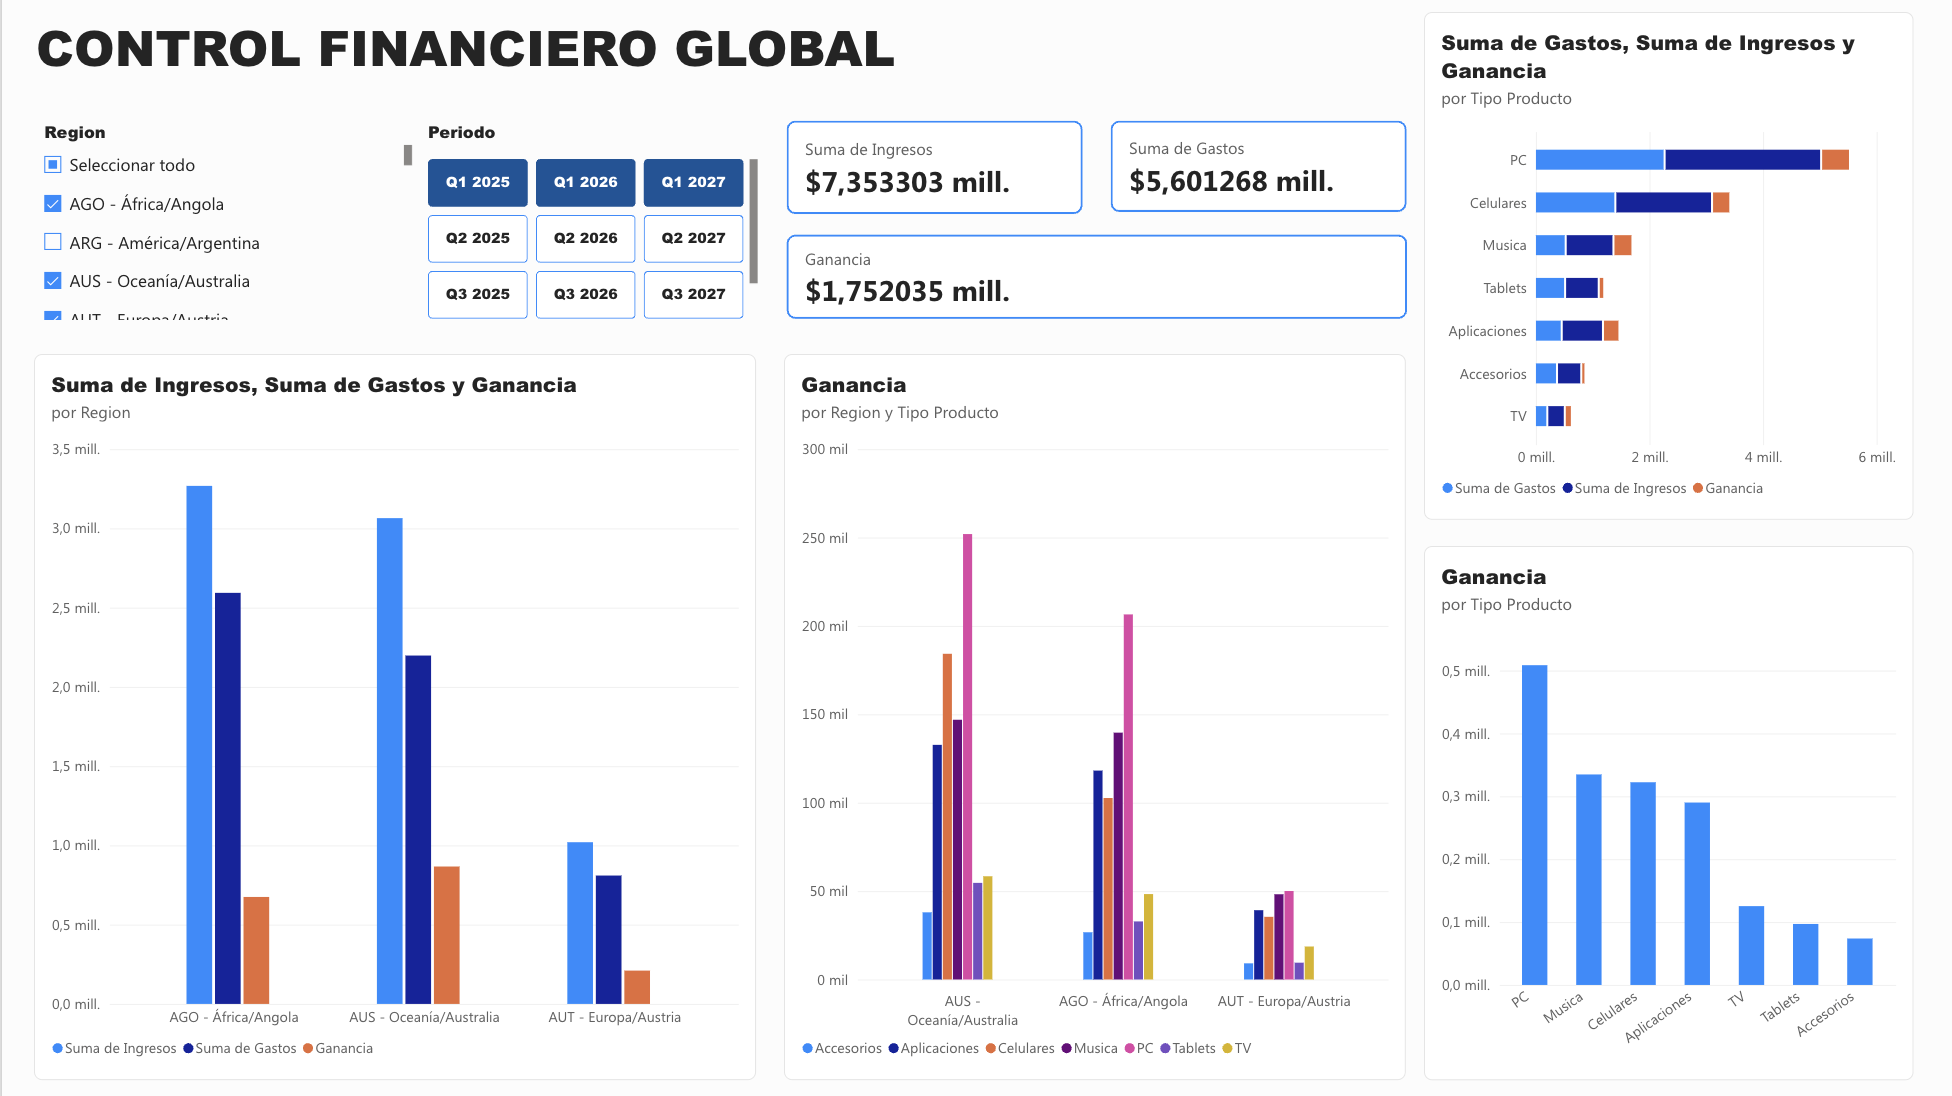

This screenshot's page, from the dashboard's own definition file:
{"tool":"powerbi","page":{"name":"Página 1","canvas":[1920,1080],"ordinal":0},"visuals":[{"type":"cardVisual","fields":{"Data":["Sum(Tabla.Ingresos)"]},"box":[771.3,118.7,292.1,93.5],"z":0},{"type":"cardVisual","fields":{"Data":["Sum(Tabla.Gastos)"]},"box":[1089.6,118.7,292.1,91.9],"z":1000},{"type":"barChart","fields":{"Category":["Tabla.Tipo Producto"],"Y":["Sum(Tabla.Gastos)","Sum(Tabla.Ingresos)","Tabla.Ganancia"]},"box":[1398,11.5,480.8,498.8],"z":2000},{"type":"clusteredColumnChart","fields":{"Category":["Tabla.Region"],"Y":["Sum(Tabla.Ingresos)","Sum(Tabla.Gastos)","Tabla.Ganancia"]},"box":[31.4,347.8,709.4,713.4],"z":3000},{"type":"advancedSlicerVisual","fields":{"Values":["Tabla.Periodo"]},"box":[417.8,117.7,324.3,196.5],"z":4000},{"type":"clusteredColumnChart","fields":{"Category":["Tabla.Tipo Producto"],"Y":["Tabla.Ganancia"]},"box":[1398,536.6,480.8,525.1],"z":5000},{"type":"cardVisual","fields":{"Data":["Tabla.Ganancia"]},"box":[771.3,230.7,611.2,84.5],"z":6000},{"type":"clusteredColumnChart","fields":{"Category":["Tabla.Region"],"Series":["Tabla.Tipo Producto"],"Y":["Tabla.Ganancia"]},"box":[768.4,347.8,611.2,713.4],"z":7000},{"type":"slicer","fields":{"Values":["Tabla.Region"]},"box":[32.7,117.7,369.5,196.5],"z":7001},{"type":"textbox","box":[33.4,11.8,880.4,72.7],"z":7002}]}

Visuals, with their boxes in screenshot pixels (x1, y1, x2, y2), scaled from the page's 1920x1080 canvas onto the 1952x1096 screenshot:
cardVisual - Sum(Tabla.Ingresos): [784,120,1081,215]
cardVisual - Sum(Tabla.Gastos): [1108,120,1405,214]
barChart - Tabla.Tipo Producto x Sum(Tabla.Gastos): [1421,12,1910,518]
clusteredColumnChart - Tabla.Region x Sum(Tabla.Ingresos): [32,353,753,1077]
advancedSlicerVisual - Tabla.Periodo: [425,119,754,319]
clusteredColumnChart - Tabla.Tipo Producto x Tabla.Ganancia: [1421,545,1910,1077]
cardVisual - Tabla.Ganancia: [784,234,1406,320]
clusteredColumnChart - Tabla.Region x Tabla.Tipo Producto: [781,353,1403,1077]
slicer - Tabla.Region: [33,119,409,319]
textbox: [34,12,929,86]
